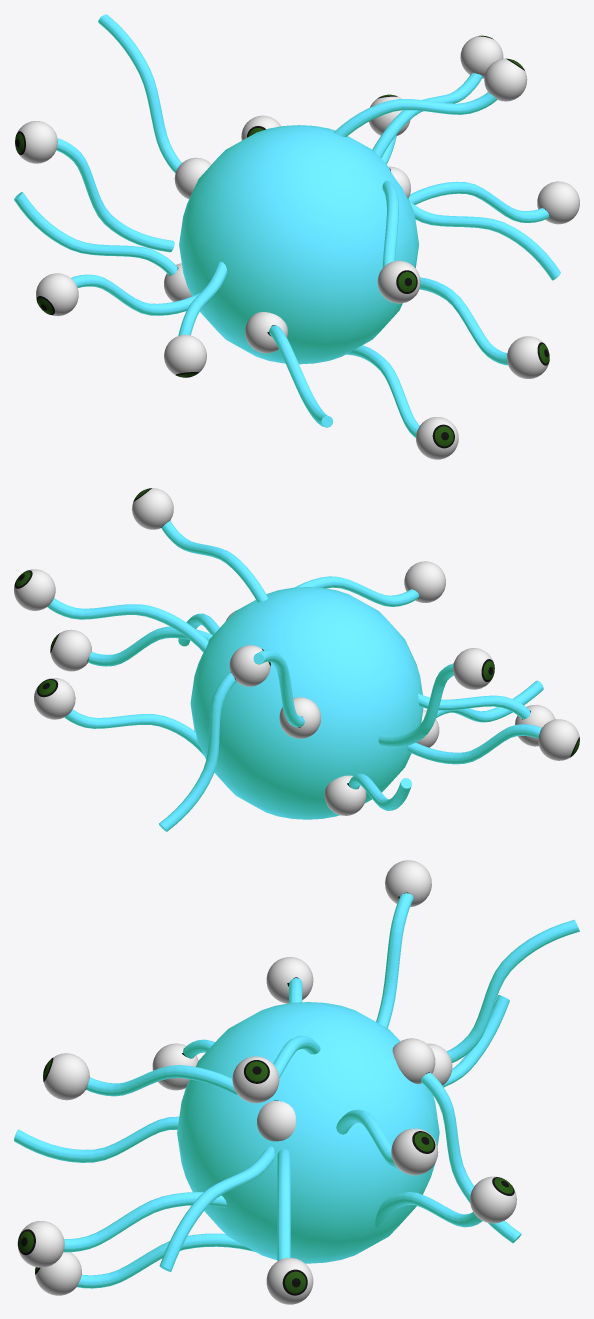
The model's file is PSEU.FBX.
The picture shows the model from 3 angles, top to bottom: view 1: azimuth 30°, elevation 25°; view 2: azimuth 150°, elevation 25°; view 3: azimuth 270°, elevation 25°; orthographic projection. The views are drawn at different scales.
Parts seen in each view (by area): view 1: Sphere001, Line009, Line011, Line004, Line014, Line008, Line001, Line007, Sphere014, Sphere008, Sphere004, Sphere010 (+15 smaller); view 2: Sphere001, Line012, Line005, Line007, Line002, Line014, Line008, Sphere006, Sphere003, Sphere009, Sphere010, Sphere015 (+13 smaller); view 3: Sphere001, Line011, Line010, Line004, Line012, Line003, Line013, Line015, Line008, Sphere006, Sphere002, Sphere003 (+15 smaller).
Boxes of the visible parts, box(x1,y1,x2,y2) form: Sphere001: box(179, 125, 418, 364); Line009: box(14, 192, 177, 275); Line011: box(98, 14, 181, 173); Line004: box(409, 201, 560, 280); Line014: box(333, 92, 496, 136); Line008: box(56, 138, 174, 252); Line001: box(408, 181, 549, 222); Line007: box(71, 274, 208, 315); Sphere014: box(377, 260, 420, 303); Sphere008: box(164, 334, 206, 377); Sphere004: box(507, 336, 549, 378); Sphere010: box(36, 273, 78, 316); Sphere001: box(190, 587, 423, 819); Line012: box(159, 671, 236, 831); Line005: box(47, 598, 208, 652); Line007: box(407, 724, 541, 764); Line002: box(64, 709, 203, 755); Line014: box(161, 520, 268, 602); Line008: box(378, 663, 453, 747); Sphere006: box(14, 569, 55, 610); Sphere003: box(34, 678, 75, 719); Sphere009: box(453, 648, 494, 689); Sphere010: box(538, 719, 579, 760); Sphere015: box(132, 488, 173, 529); Sphere001: box(177, 1002, 439, 1263); Line011: box(446, 919, 579, 1062); Line010: box(14, 1116, 179, 1162); Line004: box(159, 1146, 274, 1271); Line012: box(420, 1072, 521, 1243); Line003: box(63, 1192, 227, 1252); Line013: box(86, 1065, 237, 1096); Line015: box(77, 1233, 254, 1288); Line008: box(376, 893, 413, 1028); Sphere006: box(391, 1128, 438, 1175); Sphere002: box(266, 1258, 313, 1304); Sphere003: box(470, 1176, 516, 1223).
Size of the model in its own units: 280 by 146 by 233.
